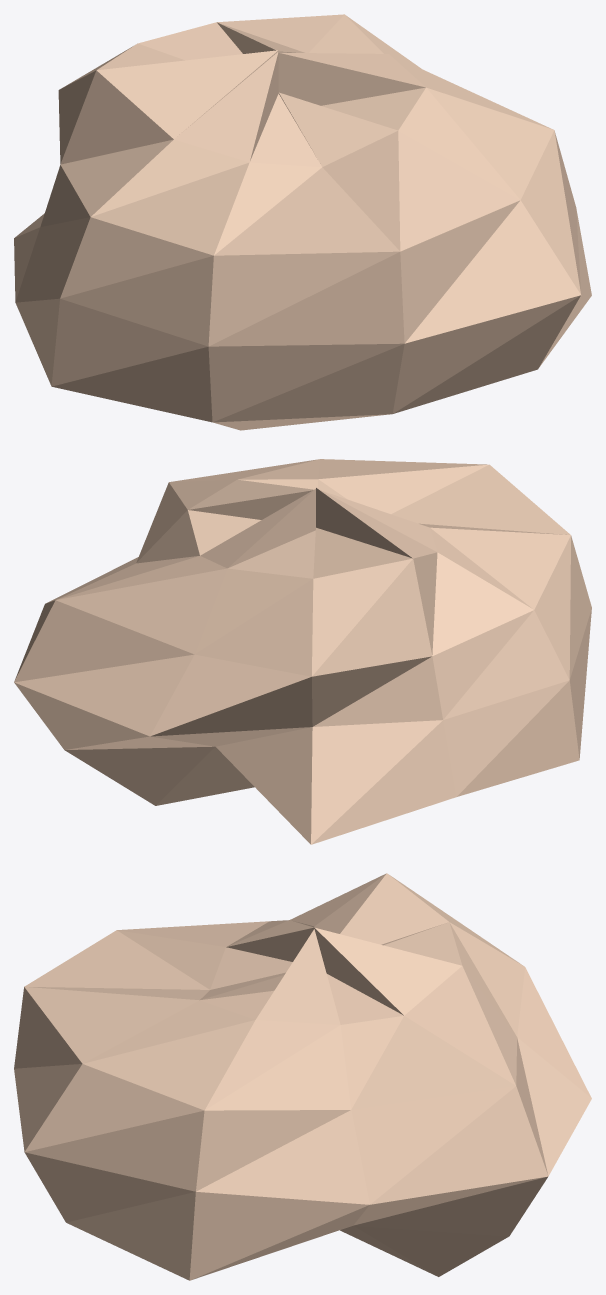
Rendered from rock_018.obj.
3 views of the same model, one above another, from view 1: azimuth 30°, elevation 25°; view 2: azimuth 150°, elevation 25°; view 3: azimuth 270°, elevation 25° (orthographic). The views are drawn at different scales.
Size of the model in its own units: 0.609 by 0.37 by 0.6257.
